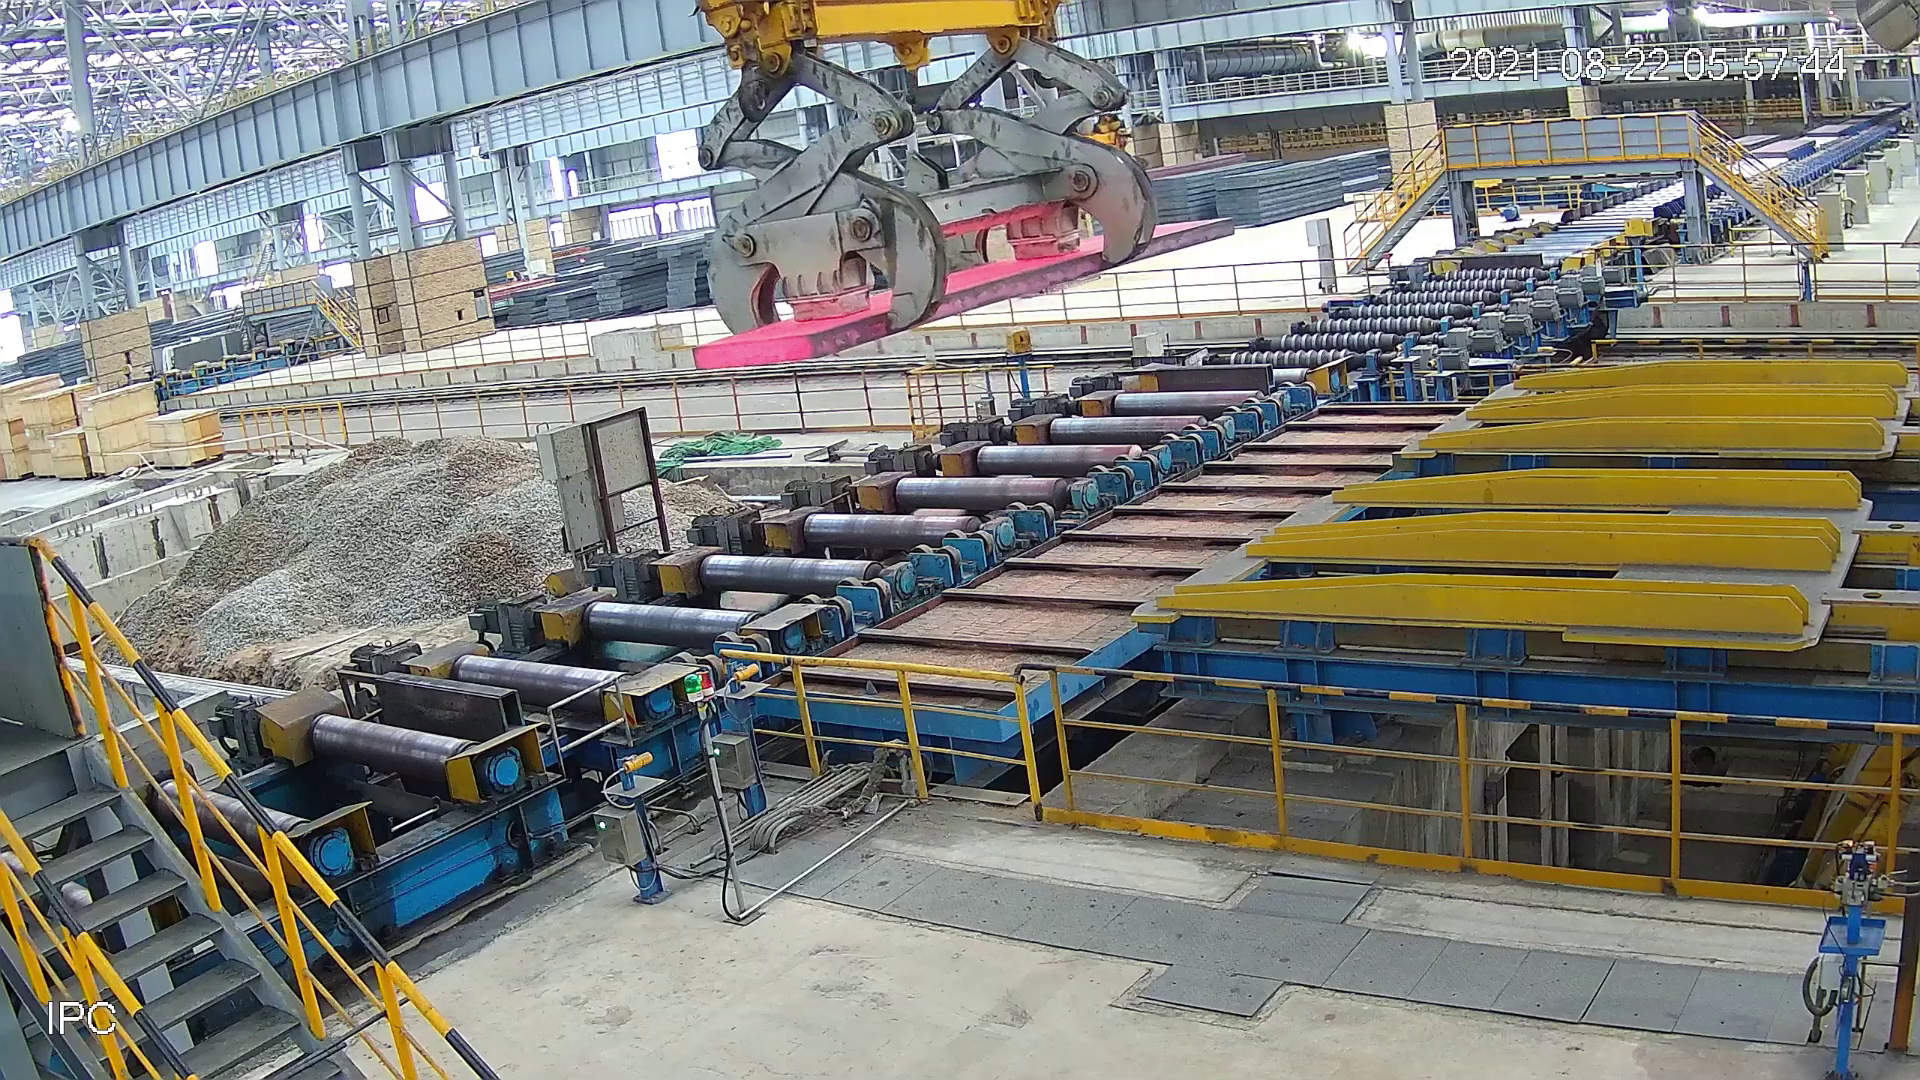craneandslab: (687, 1, 1241, 378)
